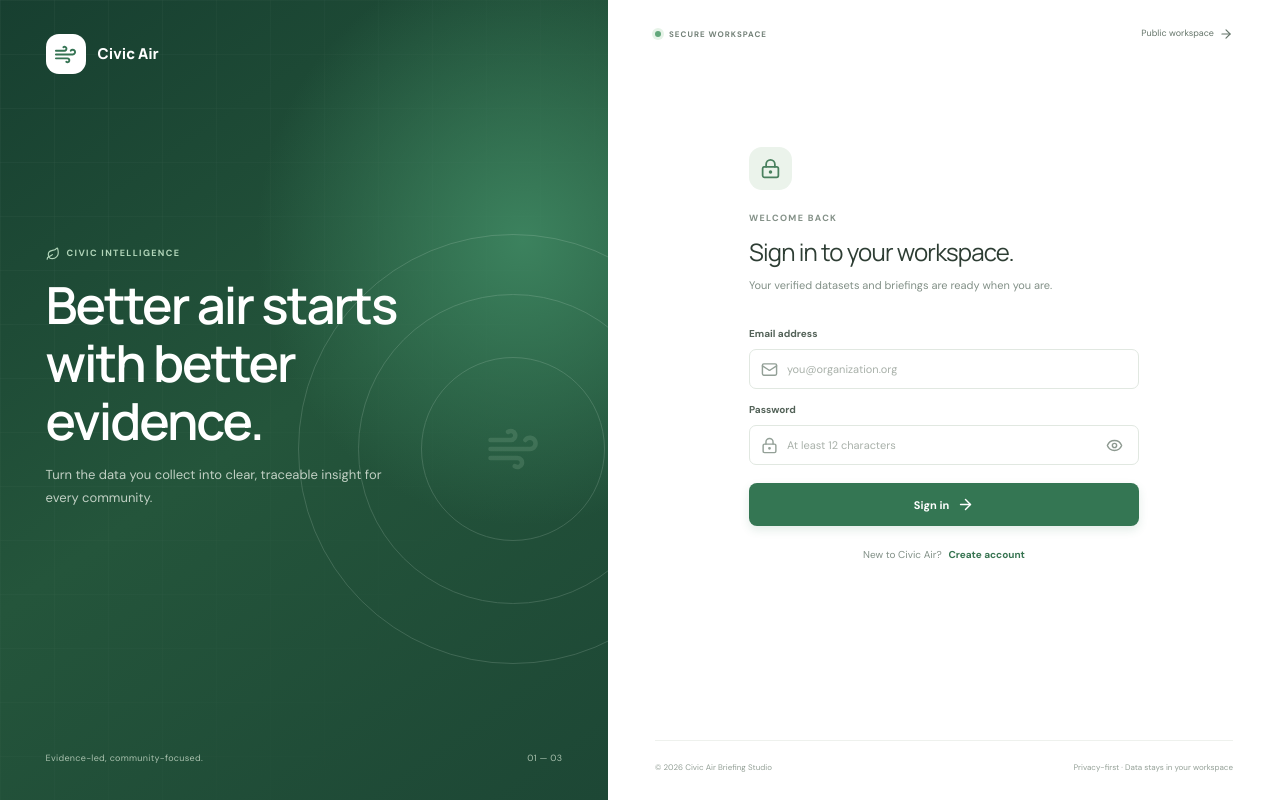
it: AuthPage › validates the password before making an authentication request
Type "citizen@example.org" into the field labelled "Email address" at [957, 369], box [787, 351, 1127, 388]
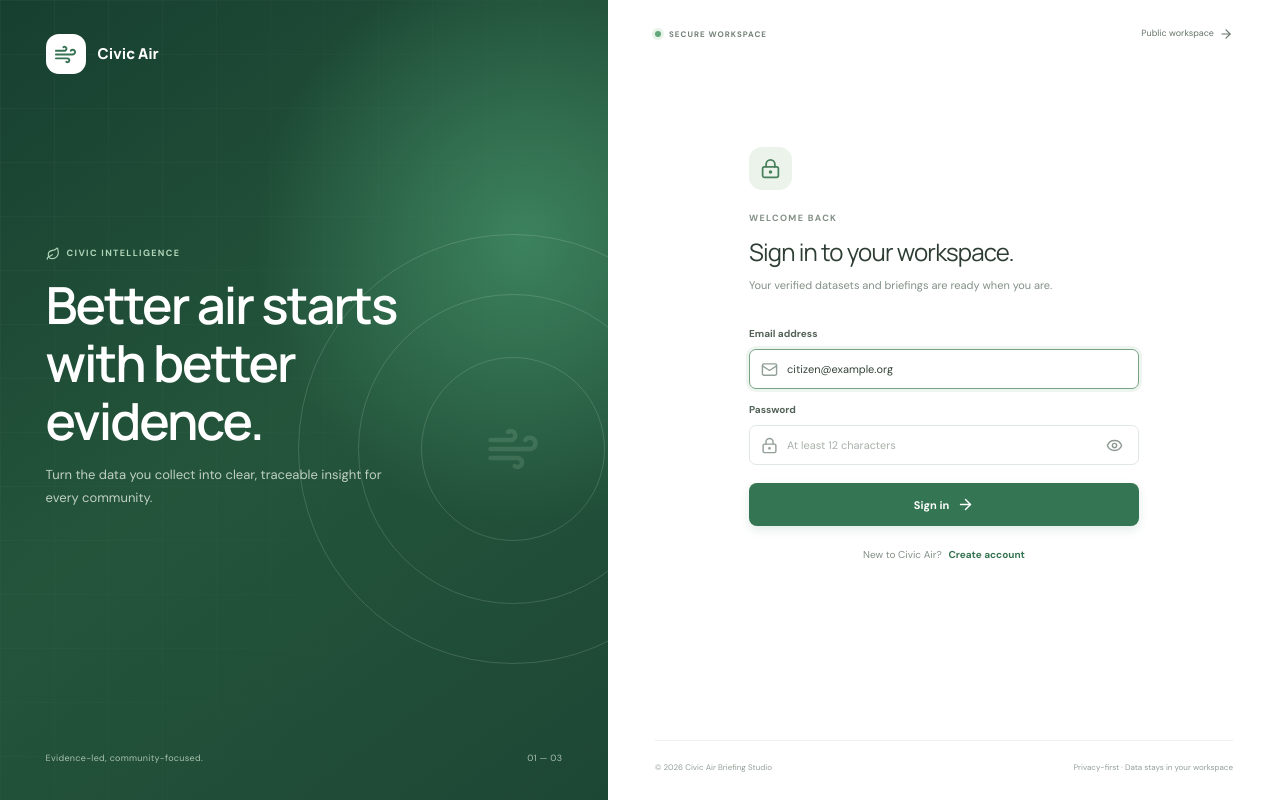
Type "short" into the password field labelled "Password" at [940, 445], box [787, 427, 1093, 464]
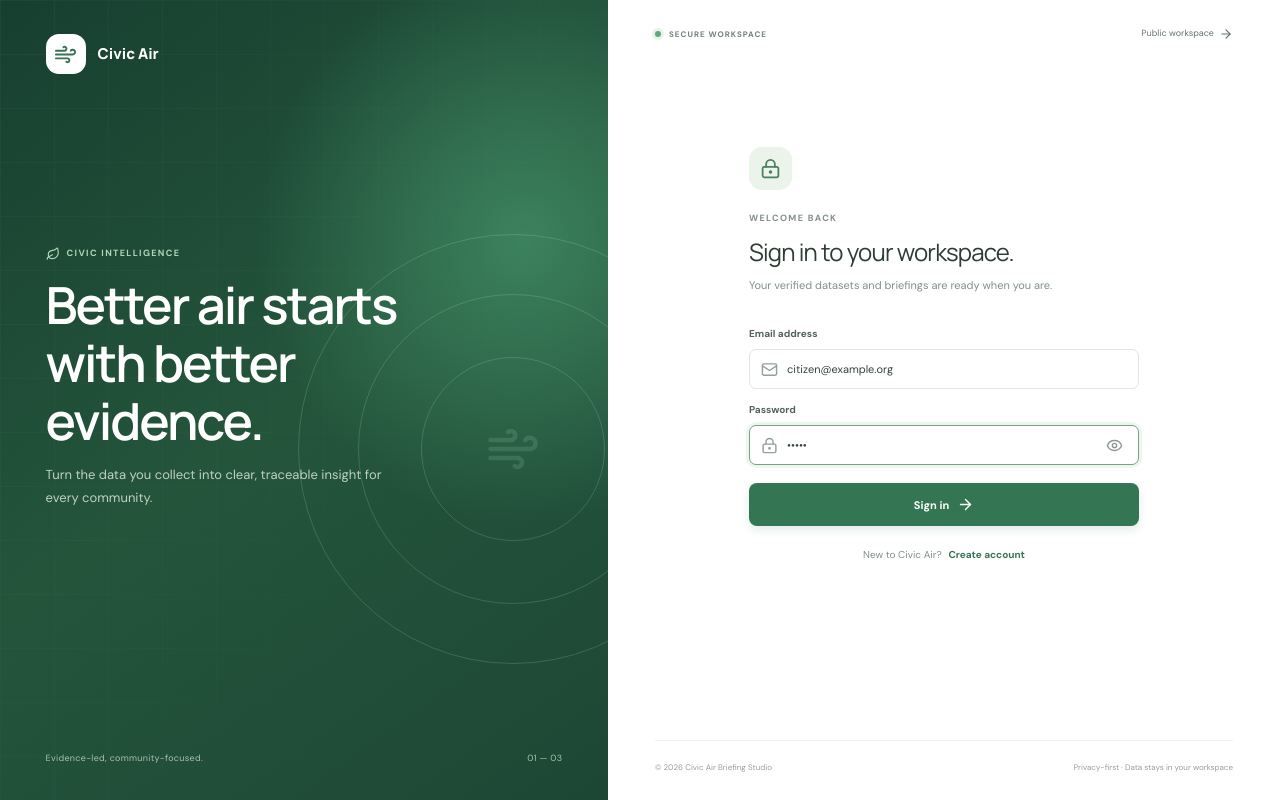
Click the button "Sign in" at [944, 505], box [749, 483, 1139, 526]
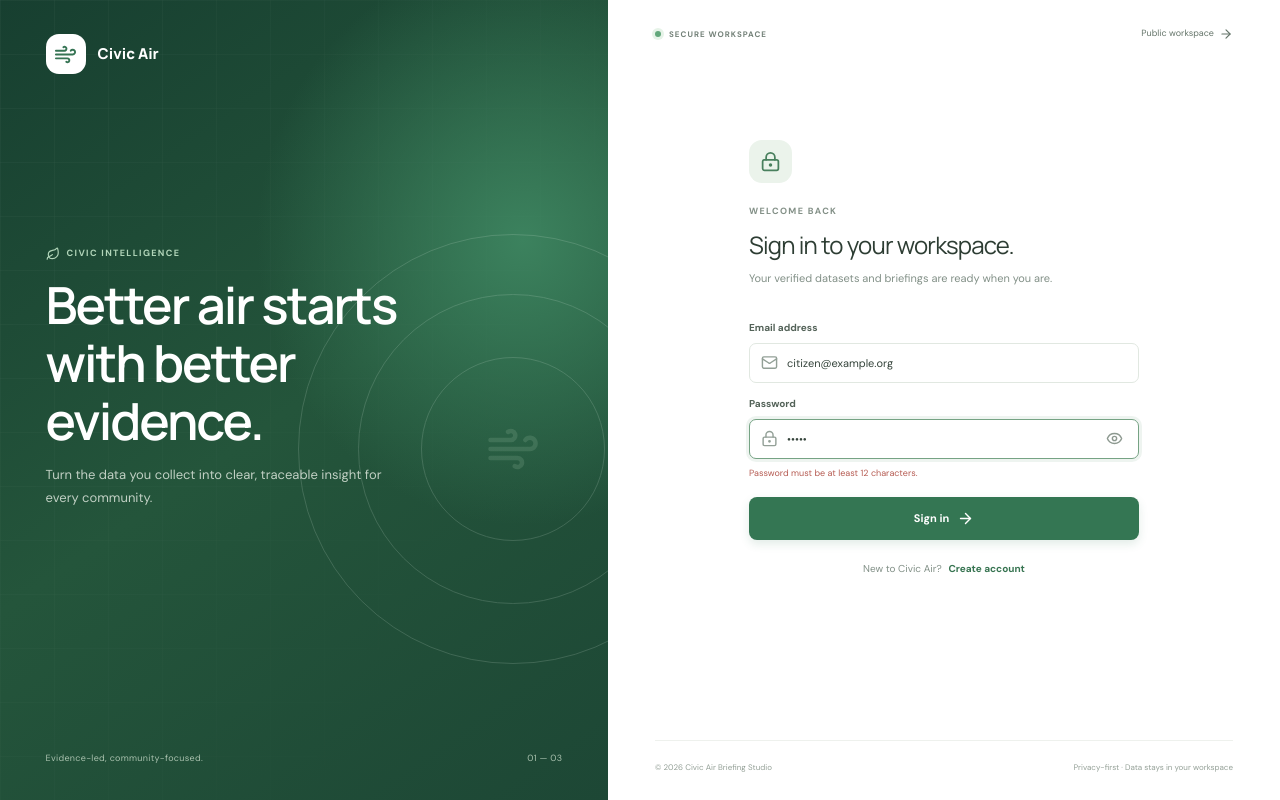
Check: the text "Password must be at least 12 characters." is shown, box [749, 466, 918, 478]
